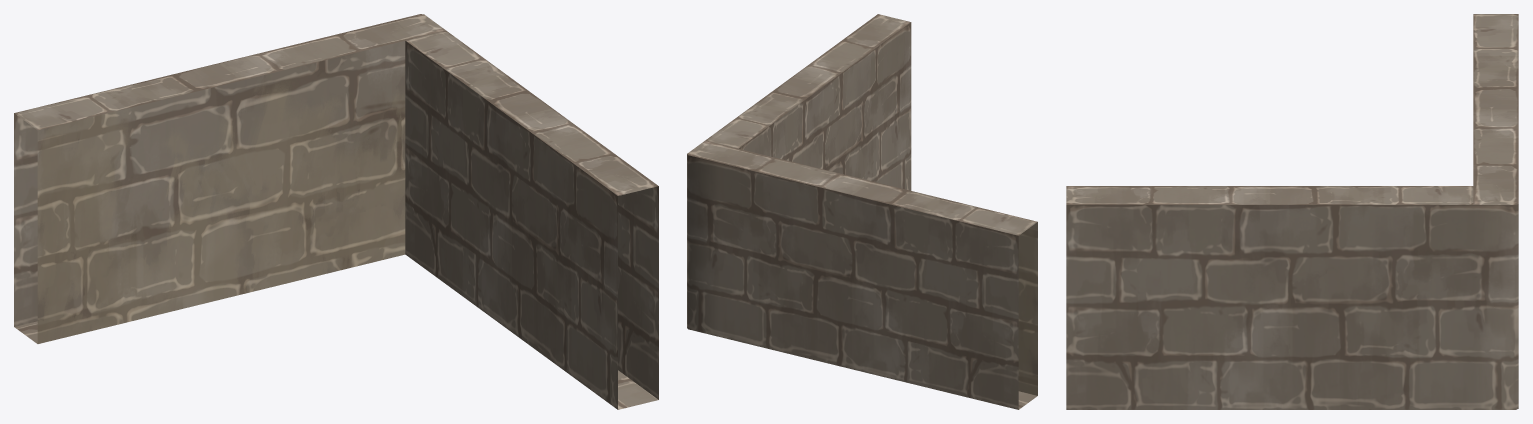
File: stairs_exterior_sides45.glb
The picture shows the model from 3 angles, left to right: view 1: azimuth 30°, elevation 25°; view 2: azimuth 150°, elevation 25°; view 3: azimuth 270°, elevation 25°; orthographic projection. The views are drawn at different scales.
Parts seen in each view (by area): view 1: Stairs_Exterior_Sides45; view 2: Stairs_Exterior_Sides45; view 3: Stairs_Exterior_Sides45.
Part boxes in pixels (left/top/right/bottom): Stairs_Exterior_Sides45: left=14, top=14, right=658, bottom=409; Stairs_Exterior_Sides45: left=687, top=14, right=1037, bottom=409; Stairs_Exterior_Sides45: left=1066, top=14, right=1518, bottom=409.
Size of the model in its own units: 2 by 1 by 2.
1 material, 1 textured.
